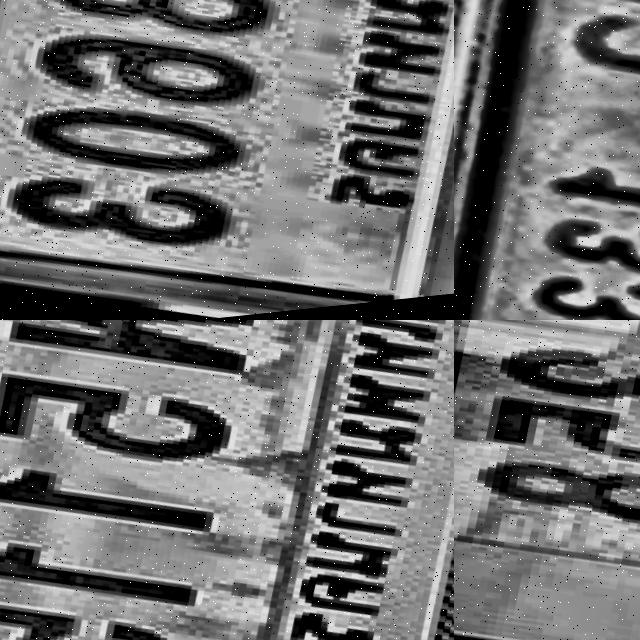license-plate: (0, 0, 454, 320), (0, 320, 454, 640), (454, 0, 640, 320), (454, 320, 640, 640)
